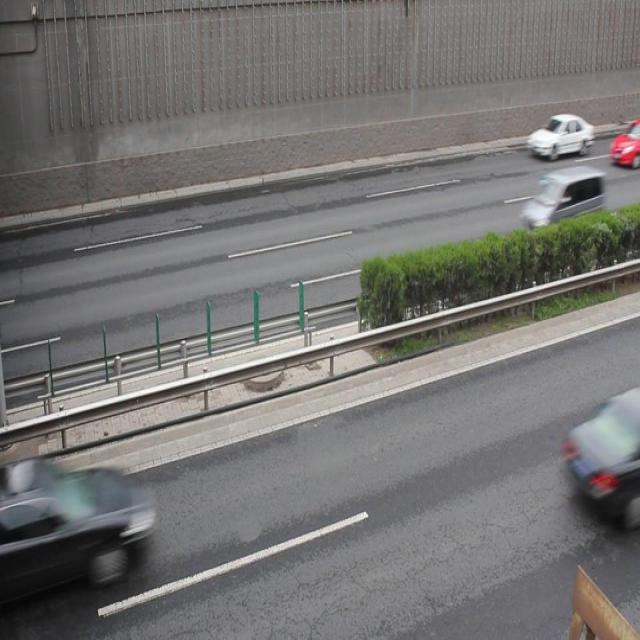car: (13, 460, 146, 594), (526, 113, 592, 160), (608, 129, 640, 164)
truck: (520, 164, 606, 237)
